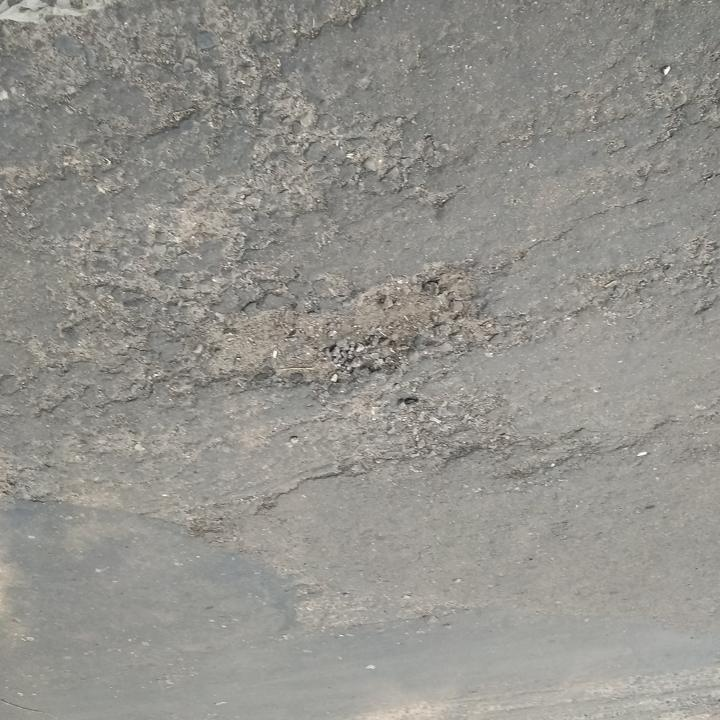pothole: (194, 256, 486, 394), (342, 394, 484, 477)
